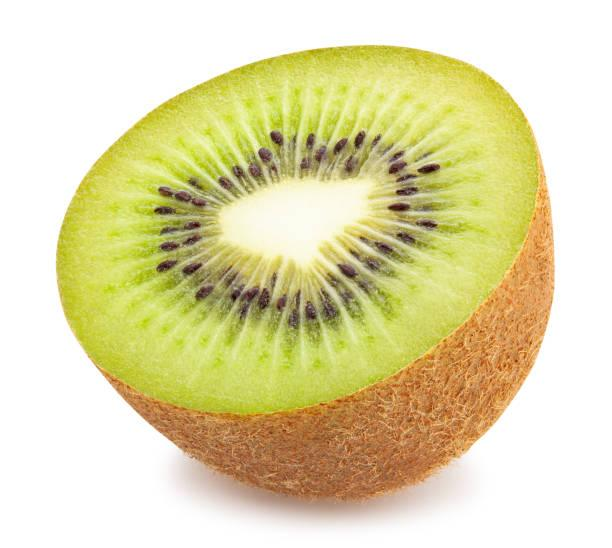kiwi: (42, 33, 567, 530)
